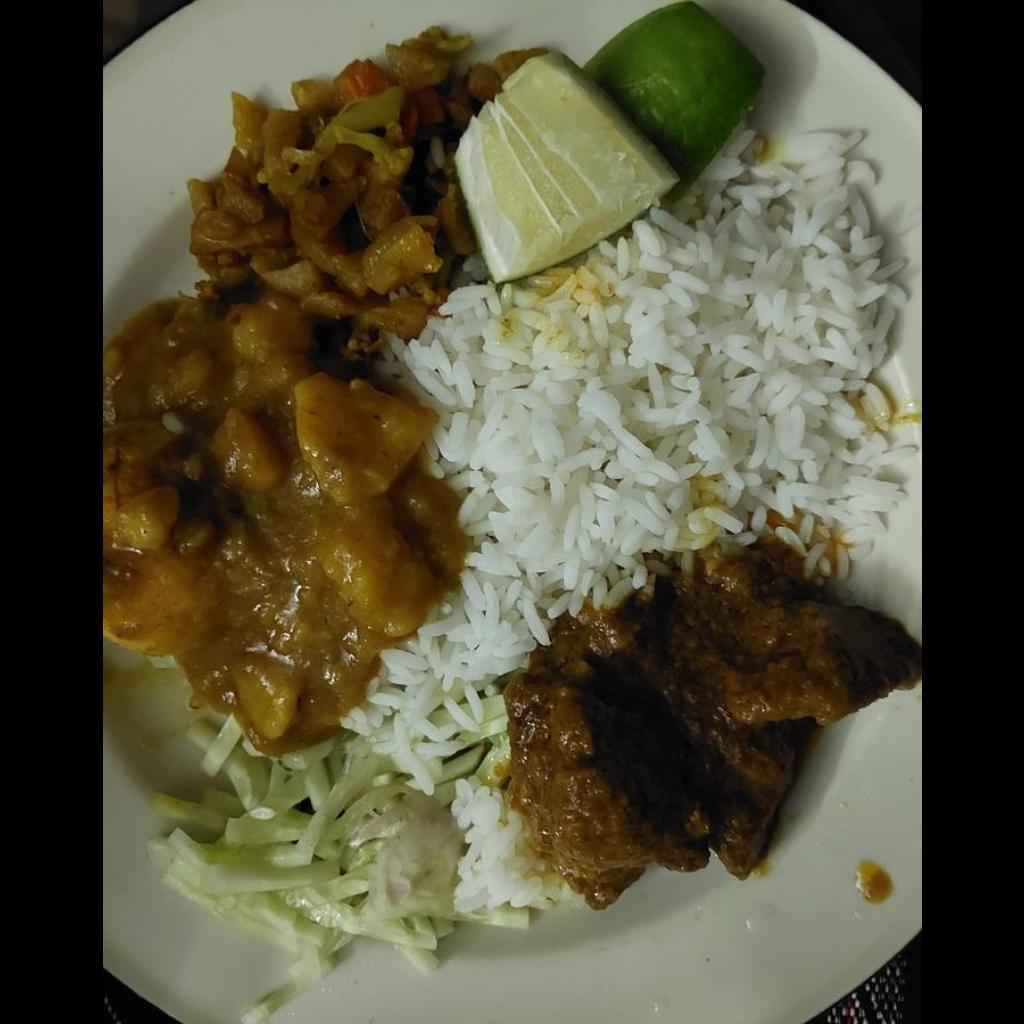beef: (505, 559, 920, 900)
lemon: (454, 4, 763, 283)
rice: (358, 128, 920, 732)
salad: (151, 721, 532, 955)
vaji: (185, 21, 511, 351)
vegetable: (104, 292, 452, 757)
